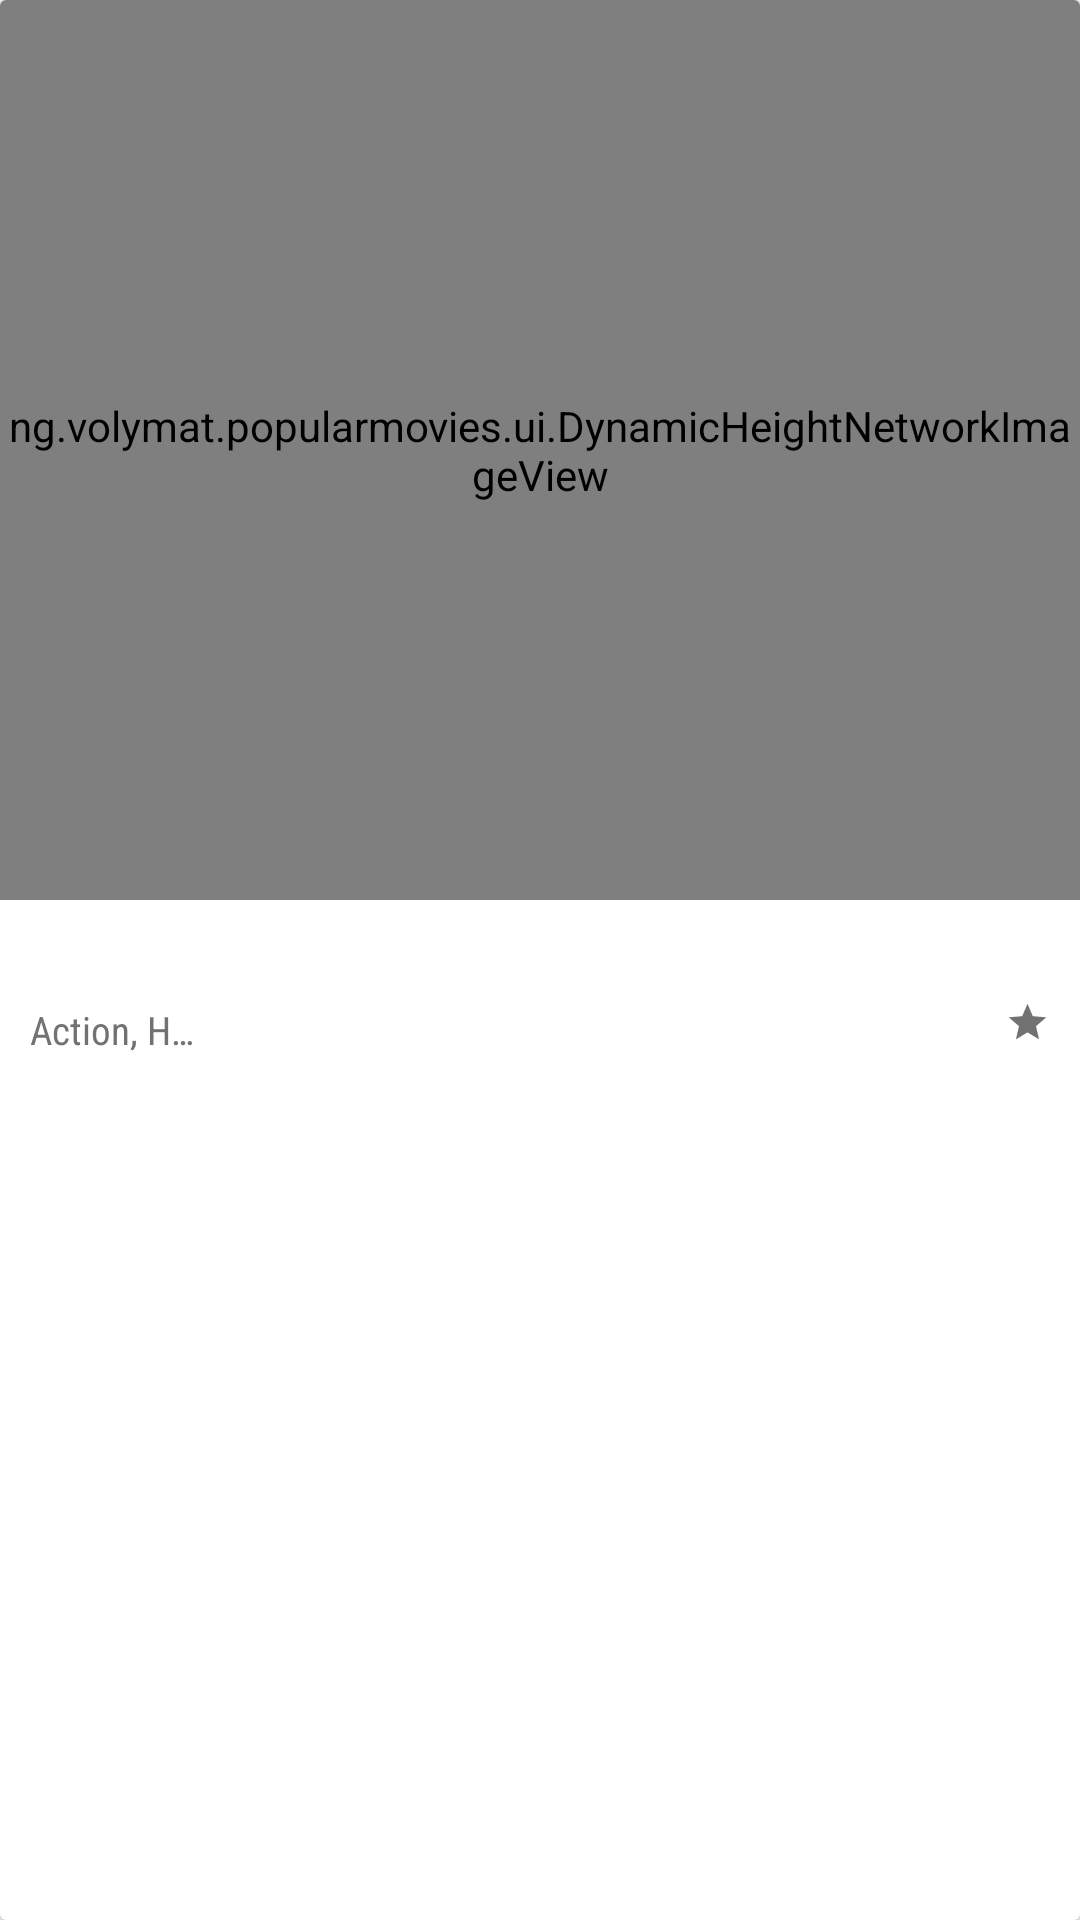

Locate icon controls on the screen. Image size 1080px×1920px, boxes as (x1, y1, x2, y2).
star: (1009, 1004, 1046, 1039)
